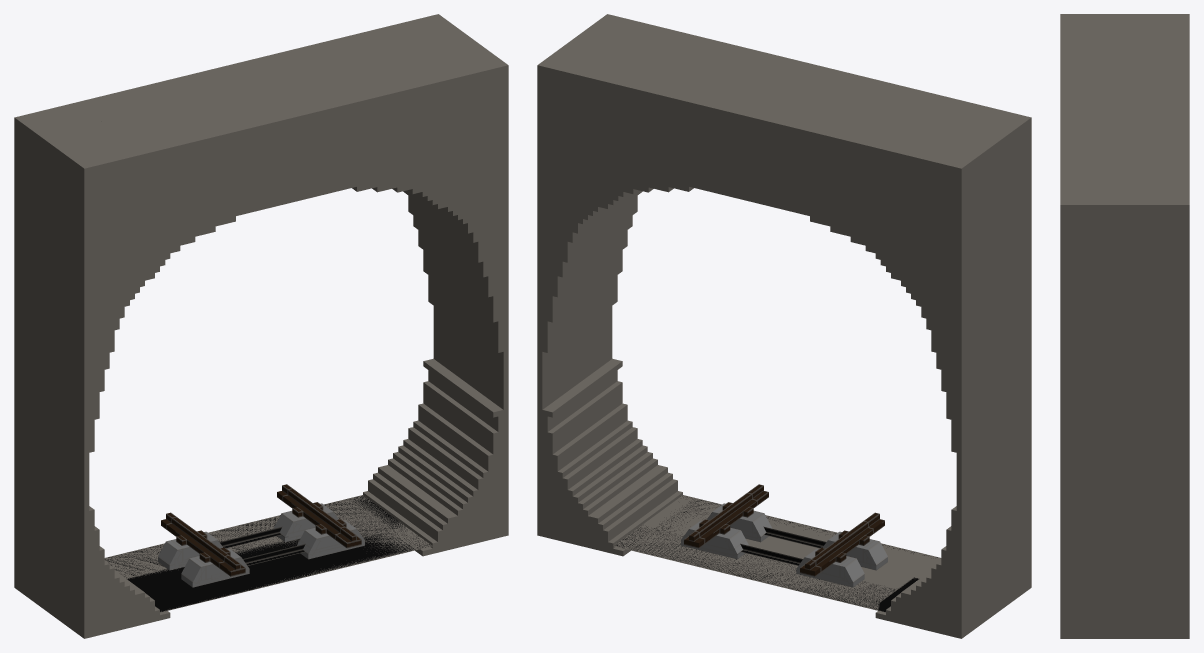
The model's file is athen-metro-rail-tunnel-3.obj.
3 renders of one model, left to right at view 1: azimuth 30°, elevation 25°; view 2: azimuth 150°, elevation 25°; view 3: azimuth 270°, elevation 25°, orthographic. The views are drawn at different scales.
Parts seen in each view (by area): view 1: cube; view 2: cube; view 3: cube.
Part boxes in pixels (x1,y1,x2,y2): cube: (14, 14, 508, 638); cube: (537, 14, 1031, 638); cube: (1060, 14, 1189, 638).
Size of the model in its own units: 5.25 by 5.56 by 1.5.
Materials: 1 (1 with a texture image).
